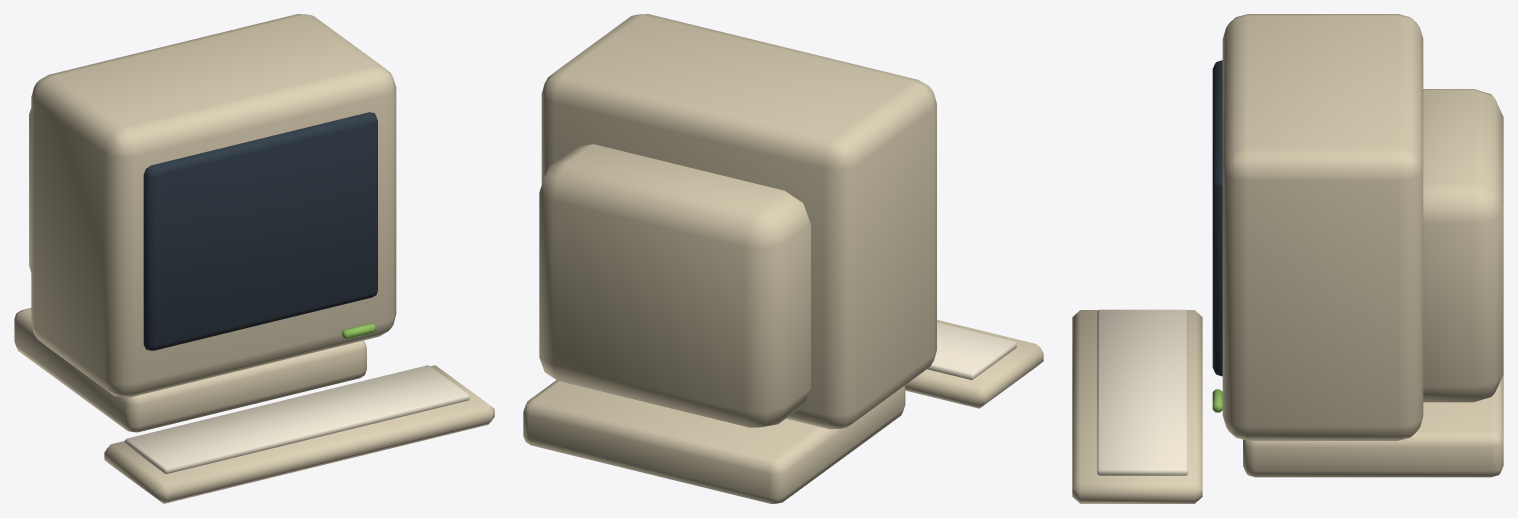
3 renders of one model, left to right at view 1: azimuth 30°, elevation 25°; view 2: azimuth 150°, elevation 25°; view 3: azimuth 270°, elevation 25°, orthographic. The views are drawn at different scales.
Parts seen in each view (by area): view 1: pc386; view 2: pc386; view 3: pc386.
Part boxes in pixels (bbox=[...]): pc386: bbox=[14, 14, 494, 503]; pc386: bbox=[523, 14, 1043, 503]; pc386: bbox=[1072, 14, 1503, 503].
Size of the model in its own units: 0.42 by 0.37 by 0.43.
Materials: 1 (1 with a texture image).
